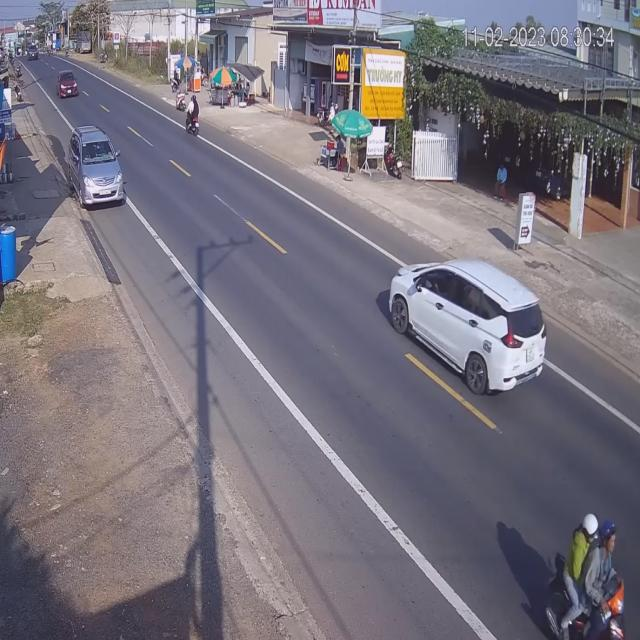car: (382, 260, 546, 400), (66, 124, 126, 209), (58, 69, 79, 99)
motorbike: (545, 509, 629, 638), (185, 96, 201, 140), (176, 89, 188, 113)
